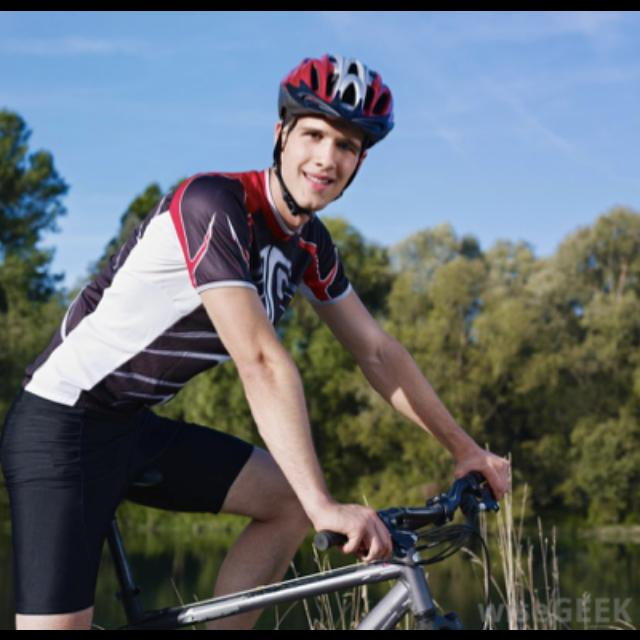With Helmet: (273, 48, 403, 220)
